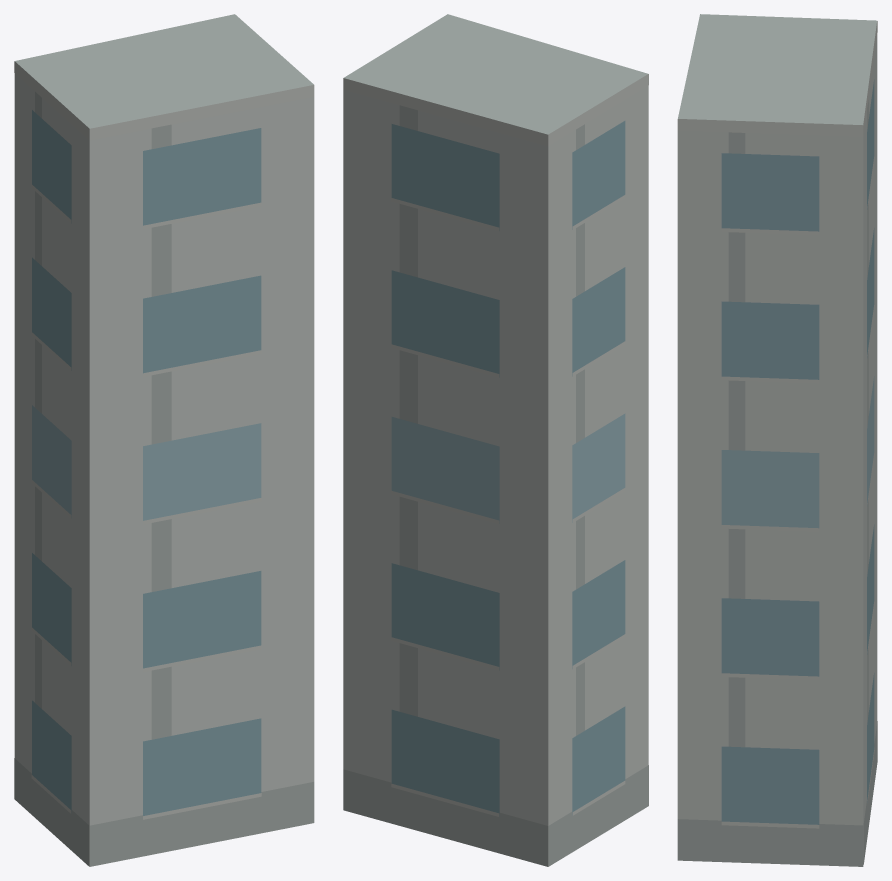
The model's file is survey-upis-32747826.glb.
3 views of the same model, side by side, from view 1: azimuth 30°, elevation 25°; view 2: azimuth 150°, elevation 25°; view 3: azimuth 270°, elevation 25° (orthographic).
Parts seen in each view (by area): view 1: survey-upis-32747826.tmp; view 2: survey-upis-32747826.tmp; view 3: survey-upis-32747826.tmp.
Part boxes in pixels (x1=…): survey-upis-32747826.tmp: x1=14, y1=14, x2=314, y2=866; survey-upis-32747826.tmp: x1=343, y1=14, x2=648, y2=866; survey-upis-32747826.tmp: x1=677, y1=14, x2=877, y2=866.
Bounding box in the file's own units: 4.91 × 15.25 × 3.73.
